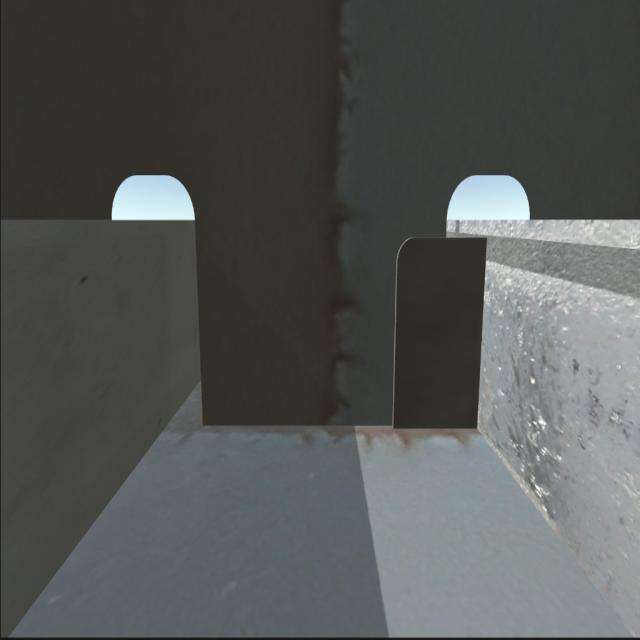fillet_yong_jeop_jang: (202, 411, 480, 436)
longi_yong_jeop_jang: (474, 231, 500, 440)
plate_CP05: (391, 229, 486, 429)
